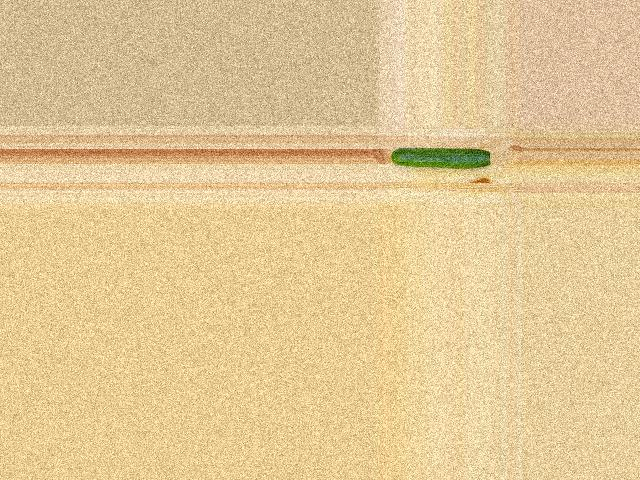cucumber: (391, 148, 489, 168)
